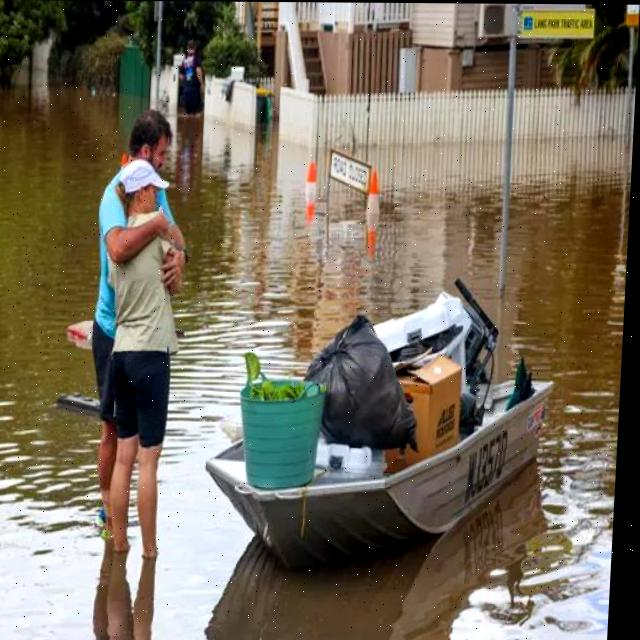civilian: (91, 158, 199, 587), (76, 109, 173, 547), (174, 36, 210, 125)
